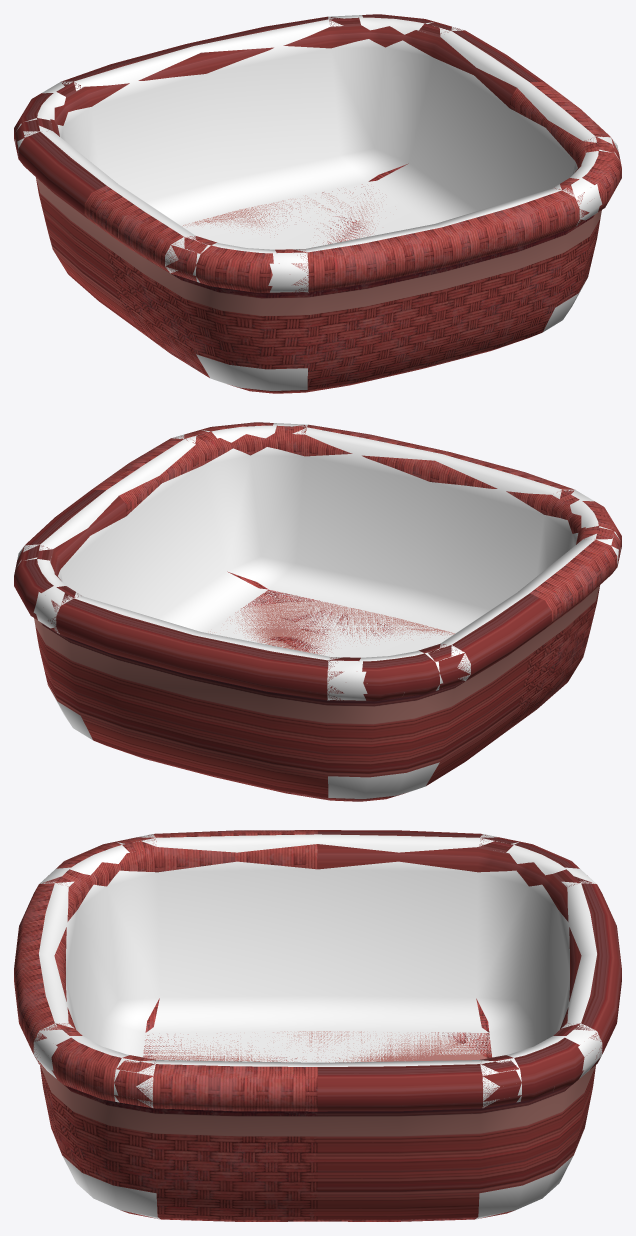
File: objects_un_t03gym_basket01.gltf
The picture shows the model from 3 angles, top to bottom: view 1: azimuth 30°, elevation 25°; view 2: azimuth 150°, elevation 25°; view 3: azimuth 270°, elevation 25°; orthographic projection. The views are drawn at different scales.
Parts seen in each view (by area): view 1: um_objects_un_t03gym_basket01_model_lod0Shape:objects_un_t03 (×2); view 2: um_objects_un_t03gym_basket01_model_lod0Shape:objects_un_t03 (×2); view 3: um_objects_un_t03gym_basket01_model_lod0Shape:objects_un_t03 (×2).
Part boxes in pixels (left/top/right/bottom): um_objects_un_t03gym_basket01_model_lod0Shape:objects_un_t03 (×2): left=14, top=14, right=621, bottom=393; um_objects_un_t03gym_basket01_model_lod0Shape:objects_un_t03 (×2): left=14, top=422, right=621, bottom=801; um_objects_un_t03gym_basket01_model_lod0Shape:objects_un_t03 (×2): left=14, top=830, right=621, bottom=1221.
Size of what is drawn, in the model's own units: 8 by 2.6 by 8.
Materials: 2 (1 with a texture image).
